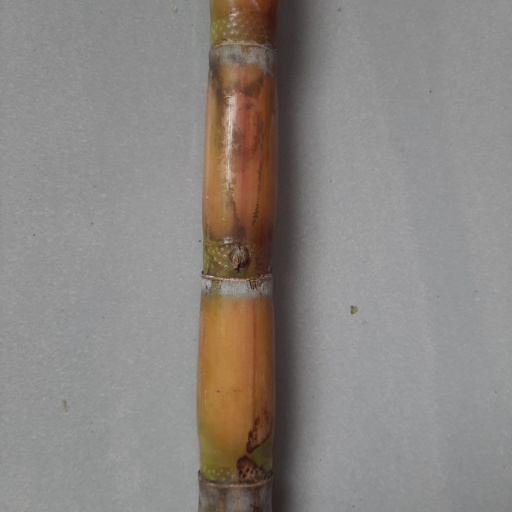Bud: (227, 243, 252, 274)
